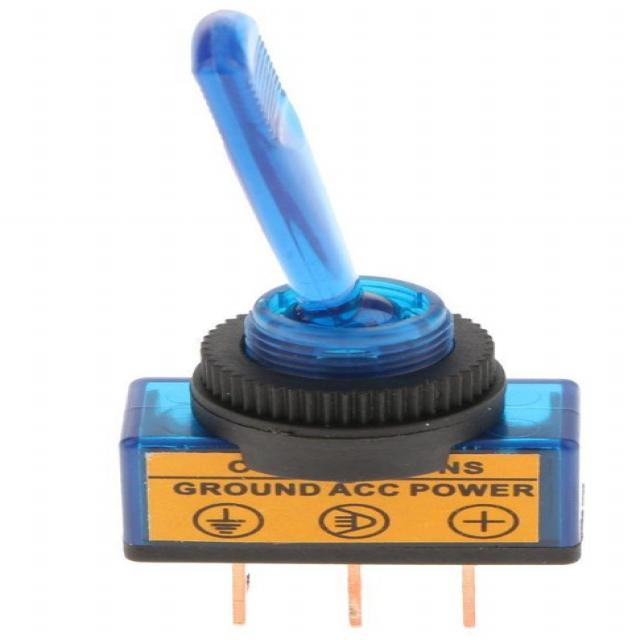toggle switch: (183, 9, 521, 436)
